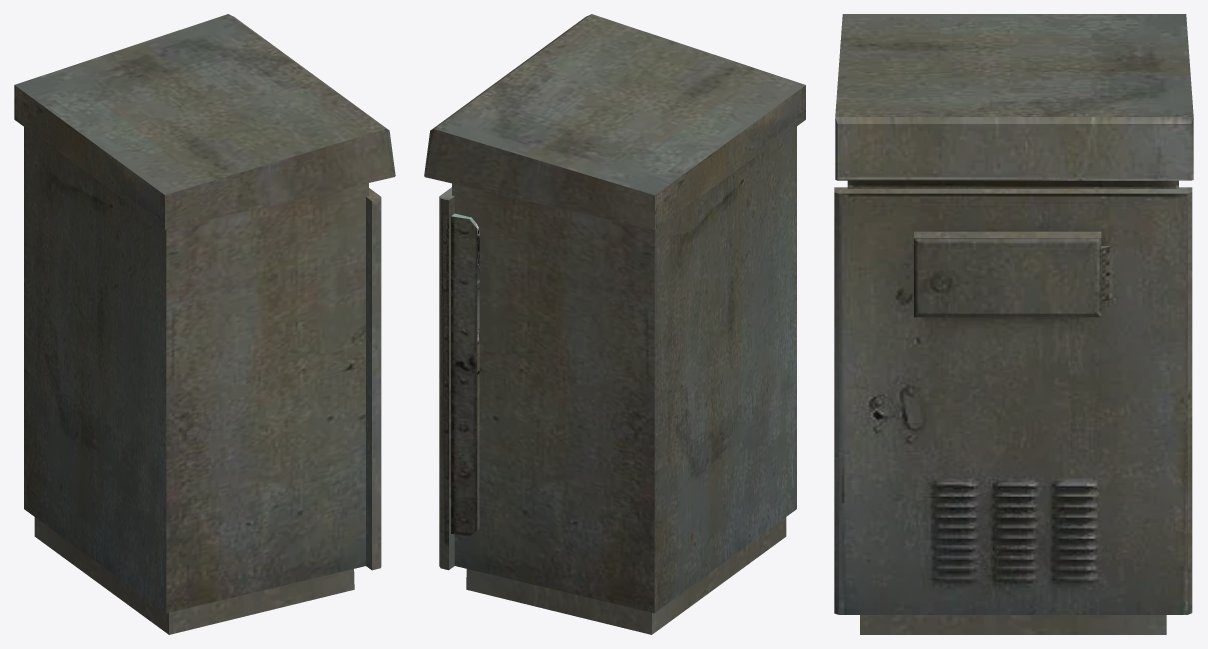
File: powerbox01a.glb
3 renders of one model, left to right at view 1: azimuth 30°, elevation 25°; view 2: azimuth 150°, elevation 25°; view 3: azimuth 270°, elevation 25°, orthographic. The views are drawn at different scales.
Visible parts, largest first — view 1: 0_powerbox001; view 2: 0_powerbox001; view 3: 0_powerbox001.
Part boxes in pixels (box(x1,y1,x2,y2)): 0_powerbox001: box(14, 14, 395, 634); 0_powerbox001: box(424, 14, 805, 634); 0_powerbox001: box(834, 14, 1193, 634).
Bounding box in the file's own units: 0.6575 × 1.28 × 0.7856.
Materials: 1 (1 with a texture image).
